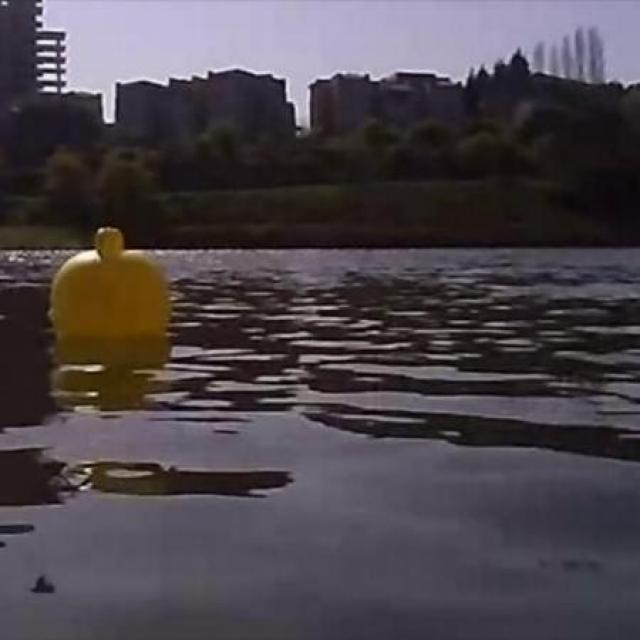buoy: (45, 225, 171, 342)
